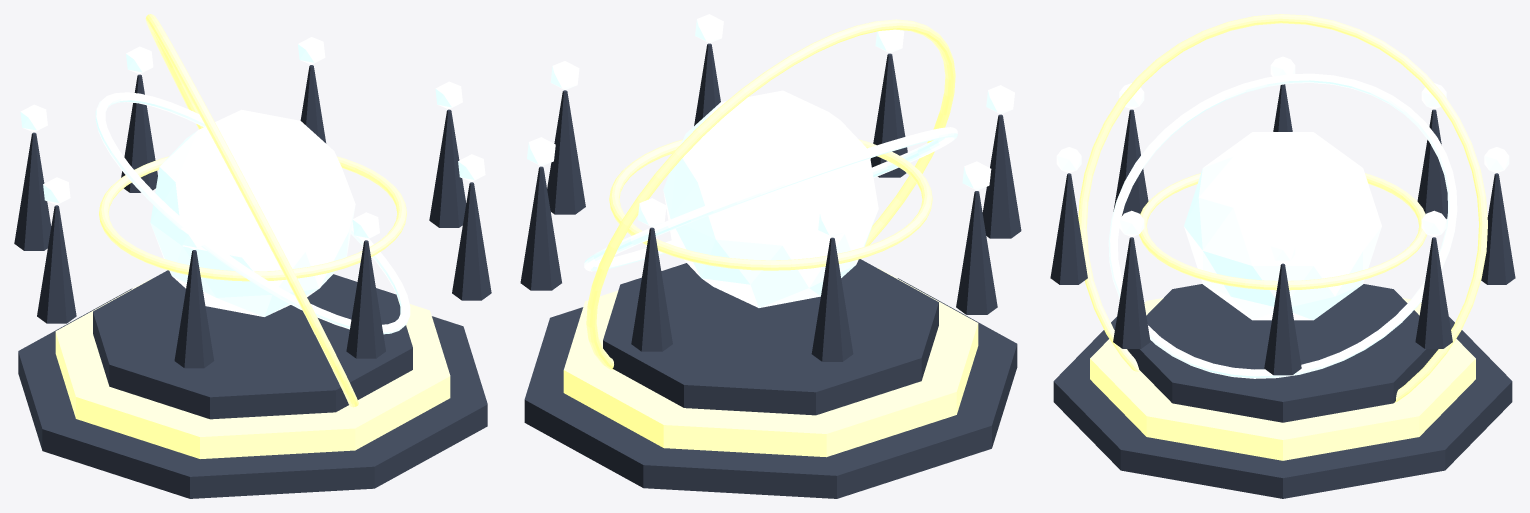
Rendered from gpu-blender-v19.glb.
3 renders of one model, left to right at view 1: azimuth 30°, elevation 25°; view 2: azimuth 150°, elevation 25°; view 3: azimuth 270°, elevation 25°, orthographic. The views are drawn at different scales.
Parts seen in each view (by area): view 1: Cylinder.002, SovereignCore_zoth-relay, Cylinder, Cylinder.001, Torus.001, Torus.002, Torus, Cone.005, Cone.007, Cone.004, Cone.006, Cone (+11 smaller); view 2: Cylinder.002, SovereignCore_zoth-relay, Cylinder, Cylinder.001, Torus.002, Torus.001, Torus, Cone.001, Cone.003, Cone.002, Cone.004, Cone (+11 smaller); view 3: SovereignCore_zoth-relay, Cylinder.002, Cylinder, Cylinder.001, Torus.002, Torus.001, Torus, Cone, Cone.001, Cone.007, Cone.006, Cone.002 (+8 smaller).
Part boxes in pixels (x1,y1,x2,y2): Cylinder.002: (93, 270, 412, 419); SovereignCore_zoth-relay: (150, 109, 355, 316); Cylinder: (18, 288, 487, 498); Cylinder.001: (55, 278, 450, 458); Torus.001: (95, 92, 410, 334); Torus.002: (145, 14, 358, 407); Torus: (99, 156, 406, 281); Cone.005: (174, 250, 214, 368); Cone.007: (452, 182, 491, 300); Cone.004: (37, 205, 76, 323); Cone.006: (346, 240, 385, 358); Cone: (429, 109, 466, 227); Cylinder.002: (603, 259, 938, 415); SovereignCore_zoth-relay: (663, 90, 878, 307); Cylinder: (524, 278, 1017, 498); Cylinder.001: (563, 268, 978, 457); Torus.002: (586, 19, 955, 369); Torus.001: (584, 127, 957, 271); Torus: (609, 139, 932, 270); Cone.001: (520, 166, 561, 290); Cone.003: (811, 237, 853, 361); Cone.002: (631, 227, 672, 351); Cone.004: (956, 191, 997, 314); Cone: (547, 90, 585, 214); SovereignCore_zoth-relay: (1184, 132, 1381, 320); Cylinder.002: (1127, 284, 1438, 422); Cylinder: (1053, 317, 1512, 498); Cylinder.001: (1090, 298, 1475, 460); Torus.002: (1078, 14, 1487, 402); Torus.001: (1108, 73, 1457, 378); Torus: (1139, 173, 1426, 290); Cone: (1264, 263, 1301, 375); Cone.001: (1415, 237, 1452, 348); Cone.007: (1113, 237, 1150, 348); Cone.006: (1050, 173, 1087, 284); Cone.002: (1481, 173, 1515, 284).
Bounding box in the file's own units: 4.41 × 3.72 × 4.46.
